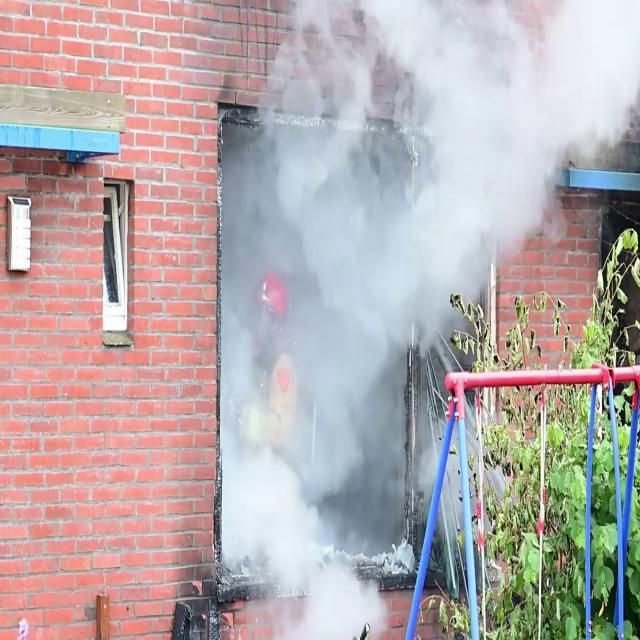Smoke: (219, 1, 448, 604), (221, 0, 619, 314)
